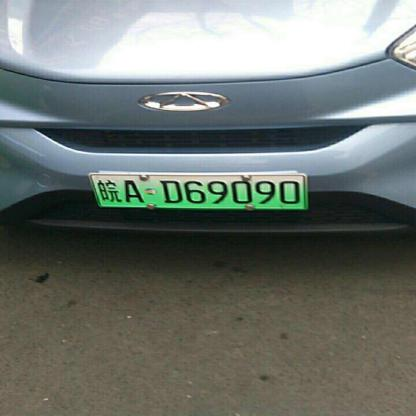lp: (89, 174, 306, 207)
